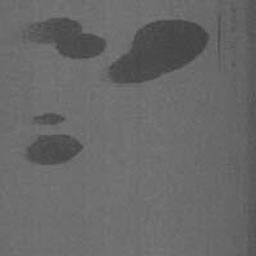Oil spot: (102, 17, 210, 86), (19, 15, 106, 61), (20, 132, 84, 168), (31, 110, 64, 125)
